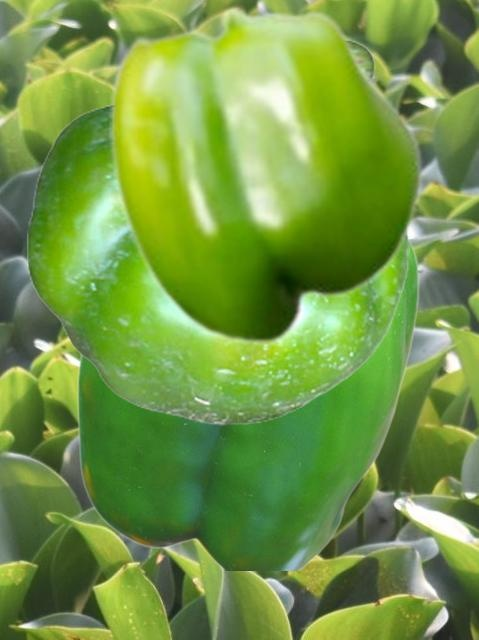bell_pepper: (27, 38, 408, 424), (76, 236, 418, 569), (109, 6, 423, 345)
